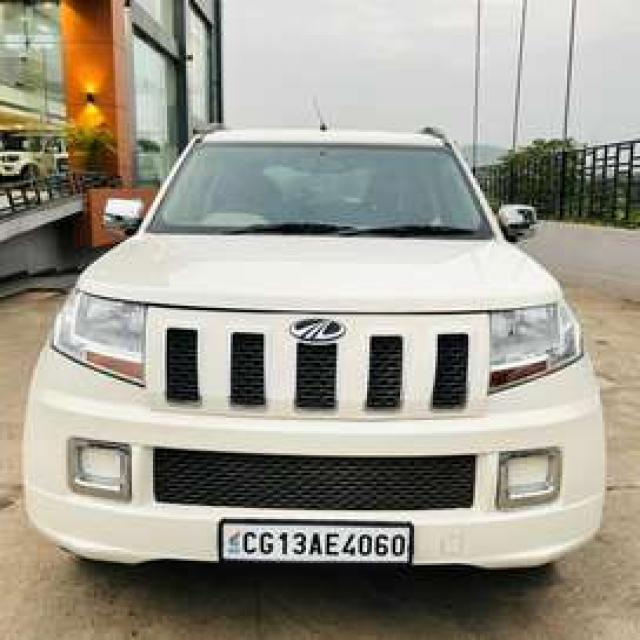license-plate: (219, 519, 405, 559)
